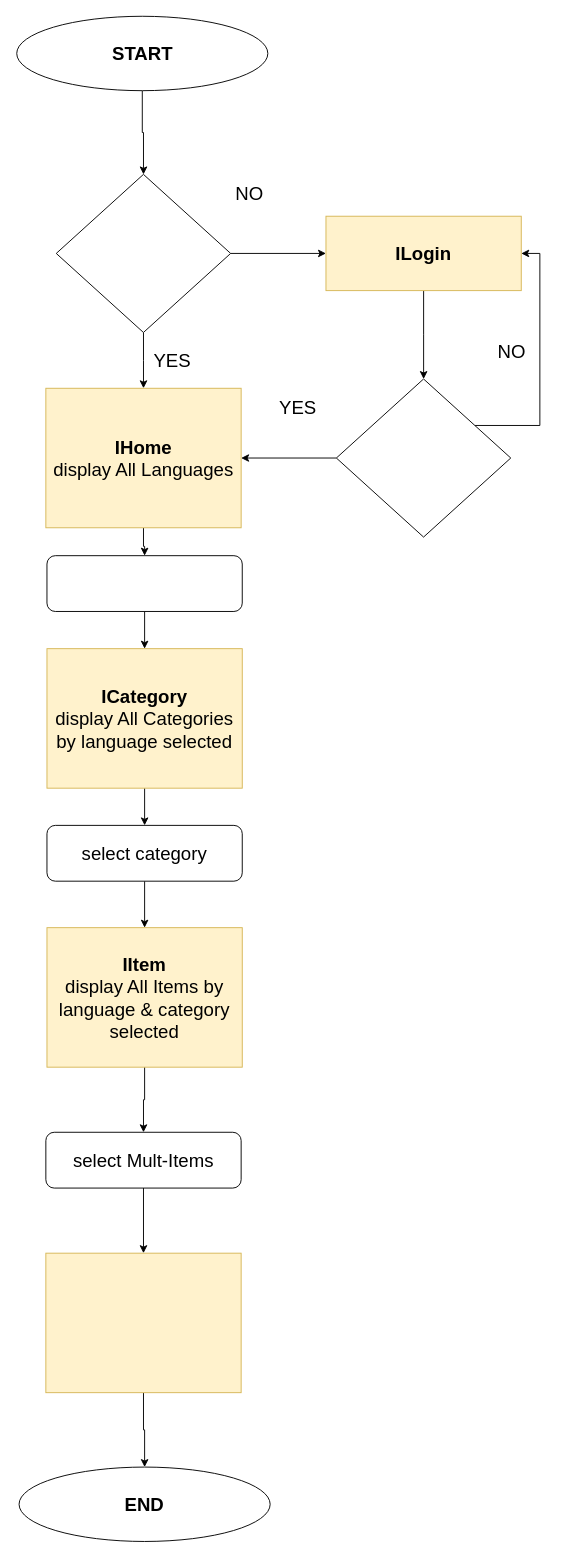
Some shapes in this 564 by 1558 pixel diagram are drawn without their labels. Here are the shapes that lost their labels. From the top down, the centre of each, then its label:
point (143, 252): If Have AccessToken
point (423, 457): If Have User in DB
point (144, 583): select language
point (143, 1322): ICheckout checkout all item to new Bill to admin
